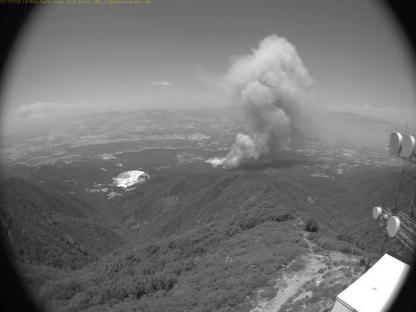smoke: (204, 30, 318, 172)
